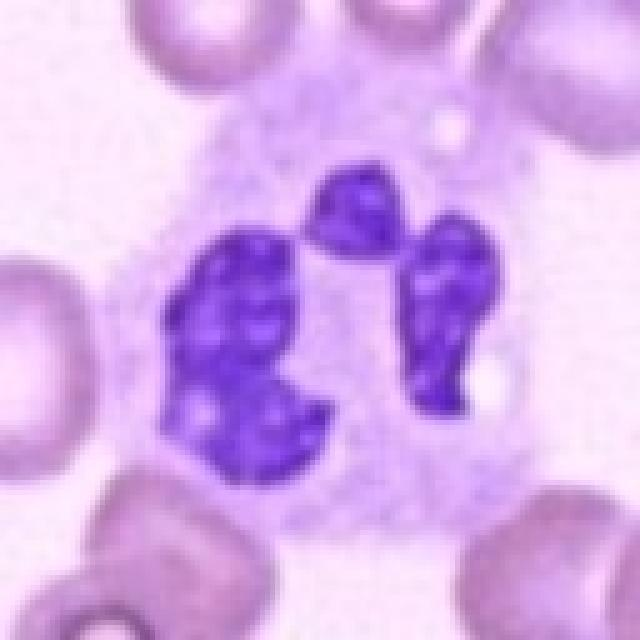neutro: (107, 60, 566, 544)
